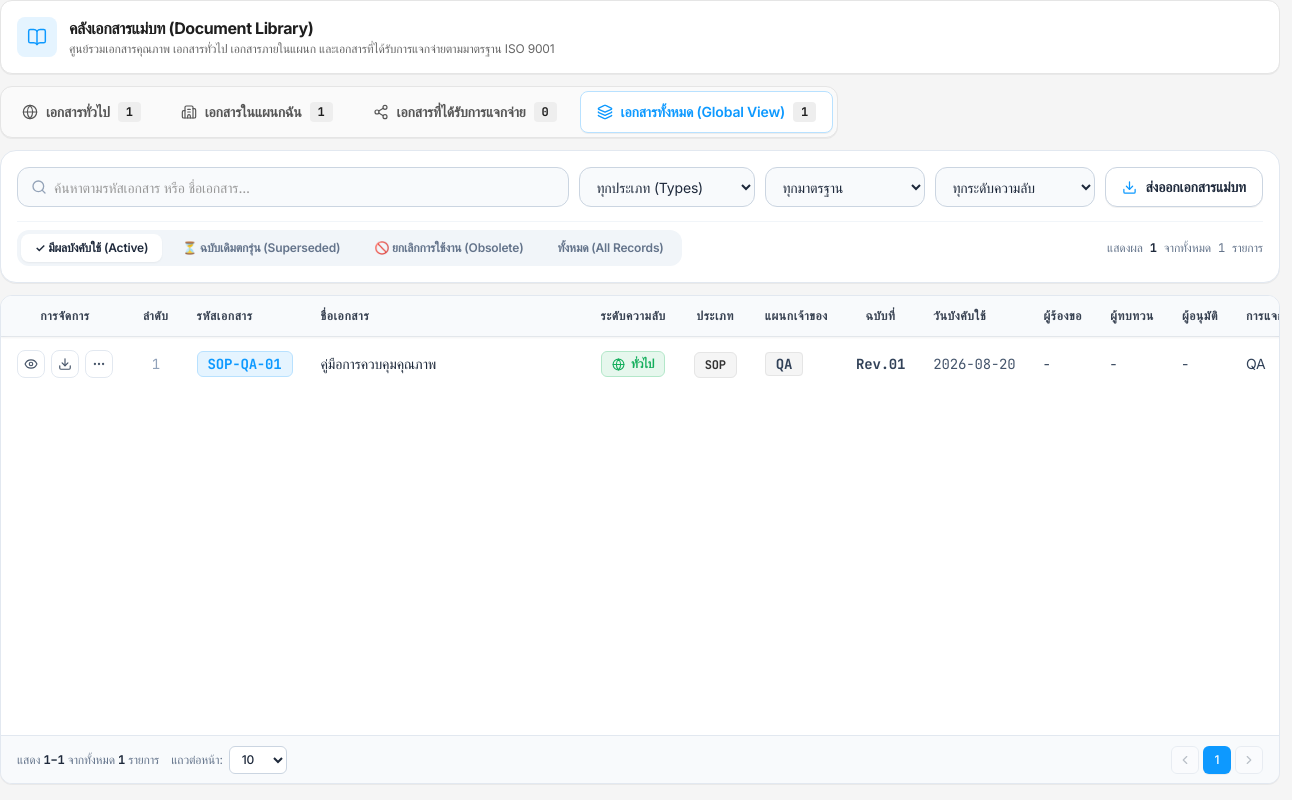
Scenario: Library Figma UI3 Action Dock & Overflow Menu Tests › 2. Clicking MoreHorizontal toggles the Overflow Menu with semantic Thai labels
Click the button titled "เมนูการจัดการเพิ่มเติม". click: (99, 364)
box: [85,350,113,378]
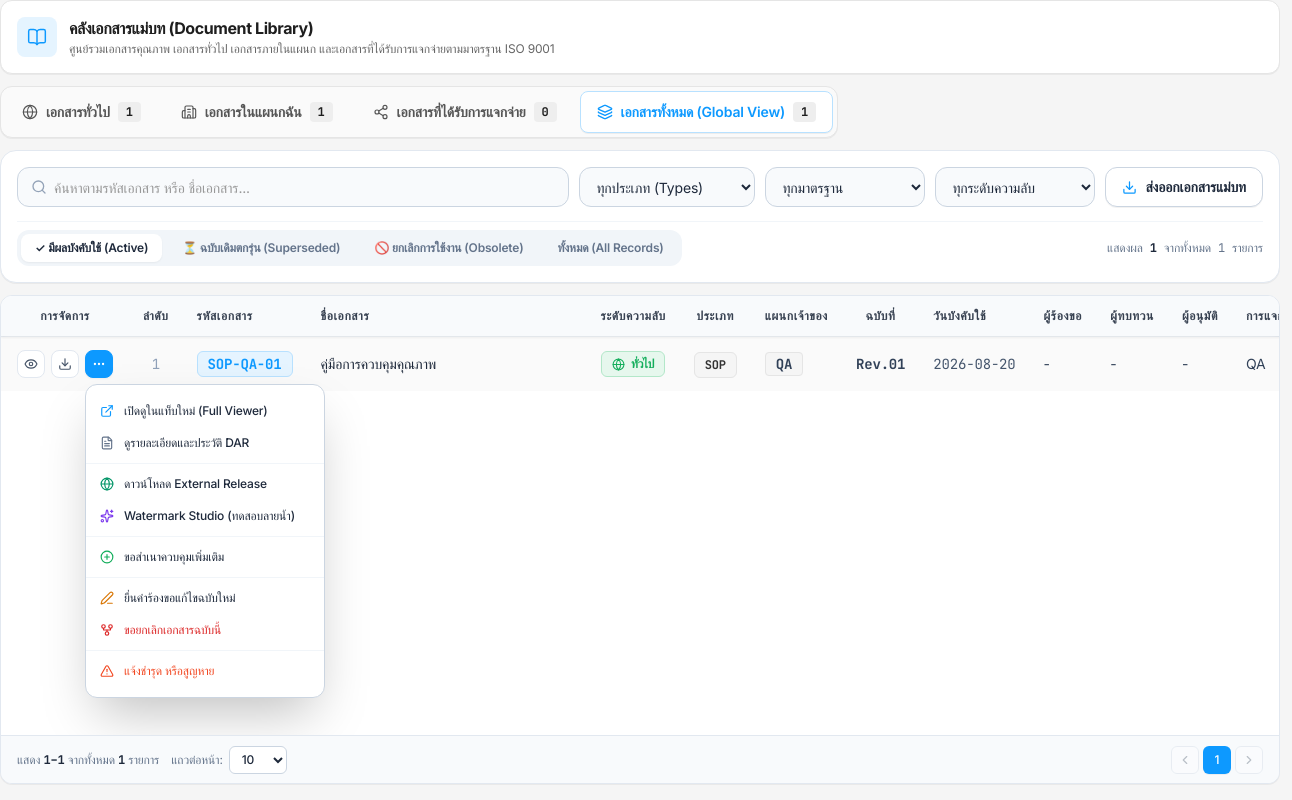
expect the text "เปิดดูในแท็บใหม่ (Full Viewer)" is shown: met, box [124,403,268,419]
expect the text "ดาวน์โหลด External Release" is shown: met, box [124,476,267,492]
expect the text "Watermark Studio (ทดสอบลายน้ำ)" is shown: met, box [124,508,295,524]
